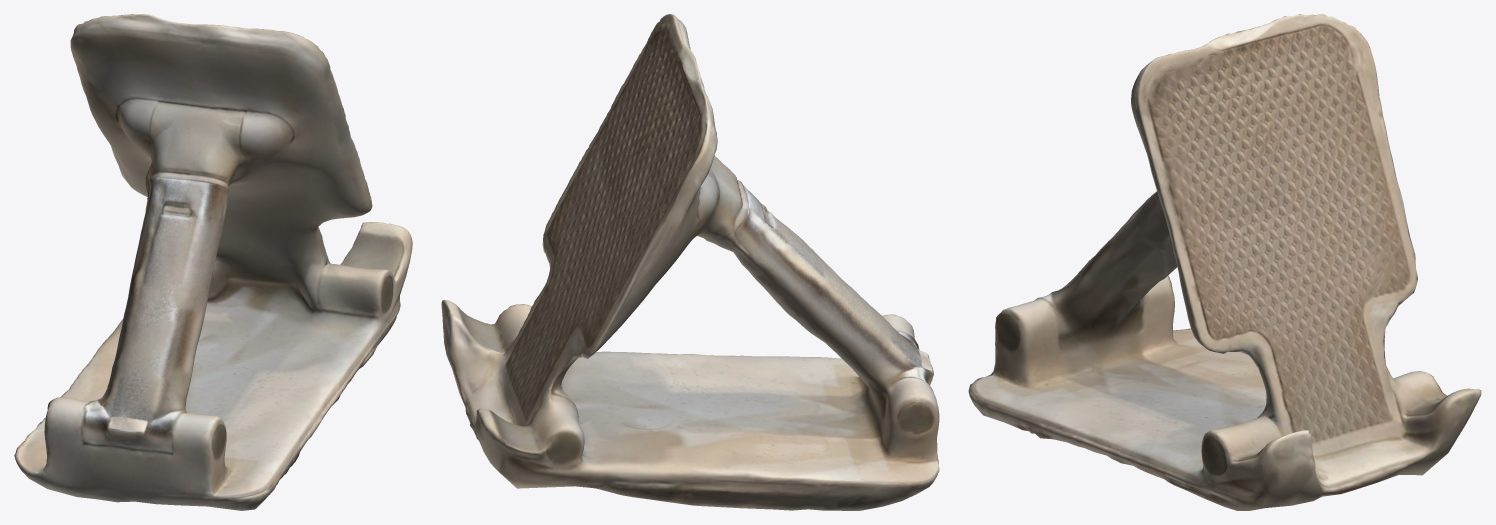
File: 3DModel.glb
The picture shows the model from 3 angles, left to right: view 1: azimuth 30°, elevation 25°; view 2: azimuth 150°, elevation 25°; view 3: azimuth 270°, elevation 25°; orthographic projection. The views are drawn at different scales.
Visible parts, largest first — view 1: 3DModel; view 2: 3DModel; view 3: 3DModel.
Part boxes in pixels (x1=…): 3DModel: x1=14, y1=14, x2=412, y2=510; 3DModel: x1=441, y1=14, x2=939, y2=510; 3DModel: x1=968, y1=14, x2=1481, y2=510.
Bounding box in the file's own units: 0.6001 × 0.5545 × 0.5759.
Materials: 1 (1 with a texture image).
